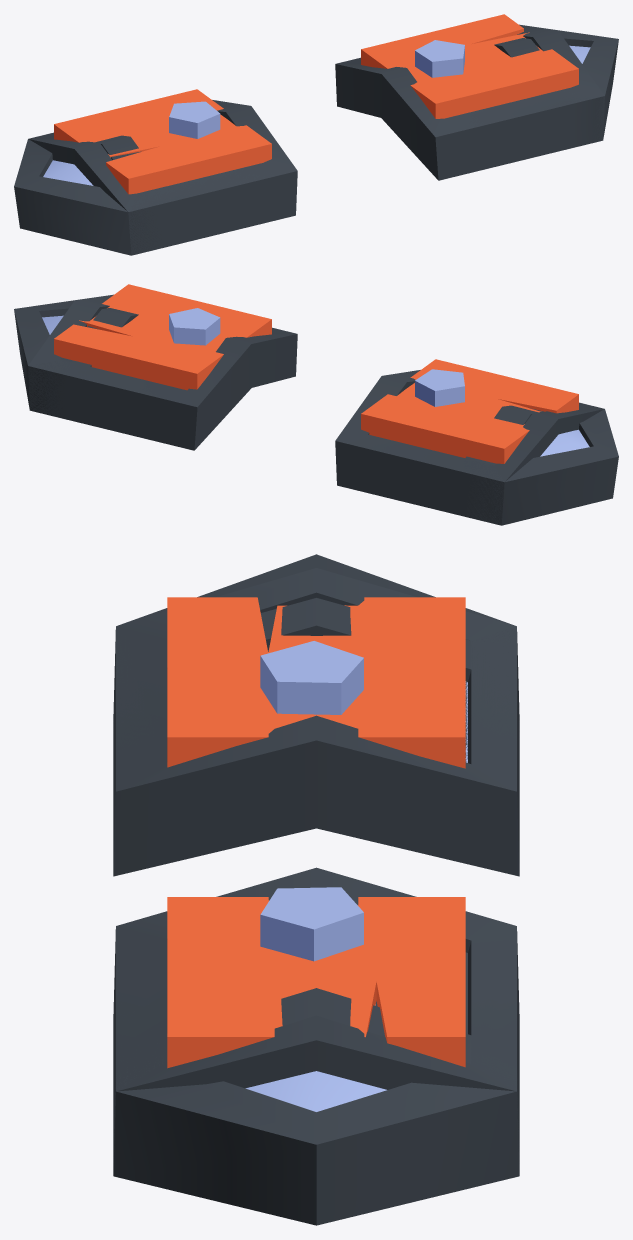
File: Shoulders.fbx
The picture shows the model from 3 angles, top to bottom: view 1: azimuth 30°, elevation 25°; view 2: azimuth 150°, elevation 25°; view 3: azimuth 270°, elevation 25°; orthographic projection. The views are drawn at different scales.
Visible parts, largest first — view 1: Shoulders_02, Shoulders_05, Shoulders_07, Shoulders_06, Shoulders_04; view 2: Shoulders_05, Shoulders_02, Shoulders_07, Shoulders_06, Shoulders_04; view 3: Shoulders_05, Shoulders_02, Shoulders_06, Shoulders_07, Shoulders_04.
Boxes of the visible parts, x1,y1,x2,y2 form: Shoulders_02: (54,14,578,194); Shoulders_05: (29,25,604,255); Shoulders_07: (30,38,604,254); Shoulders_06: (14,24,618,255); Shoulders_04: (170,58,463,138); Shoulders_05: (28,295,604,525); Shoulders_02: (54,284,578,463); Shoulders_07: (28,308,597,524); Shoulders_06: (14,294,618,525); Shoulders_04: (174,326,464,406); Shoulders_05: (113,568,519,1173); Shoulders_02: (167,597,465,1068); Shoulders_06: (113,554,519,1225); Shoulders_07: (113,598,519,1169); Shoulders_04: (260,651,467,1034).
Size of the model in its own units: 93.23 by 11.85 by 27.1.
